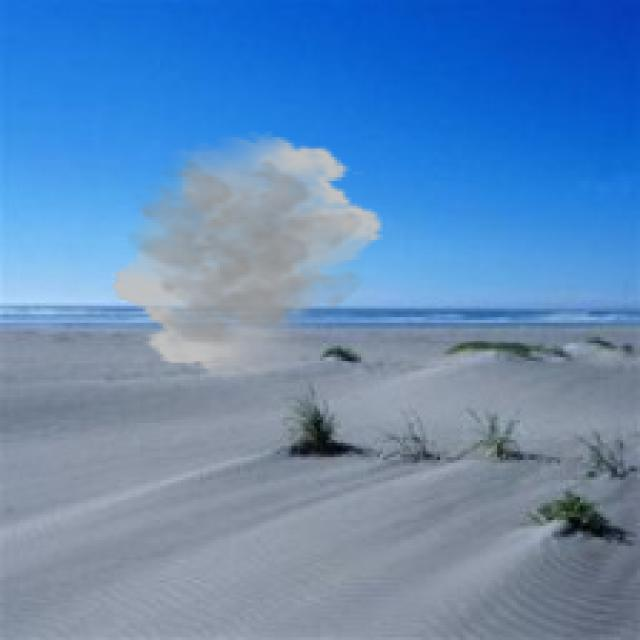smoke: (108, 131, 386, 380)
